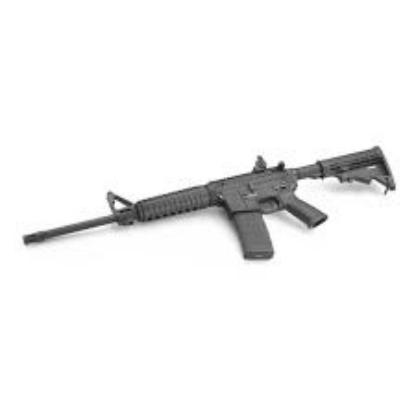gun: (10, 135, 402, 261)
